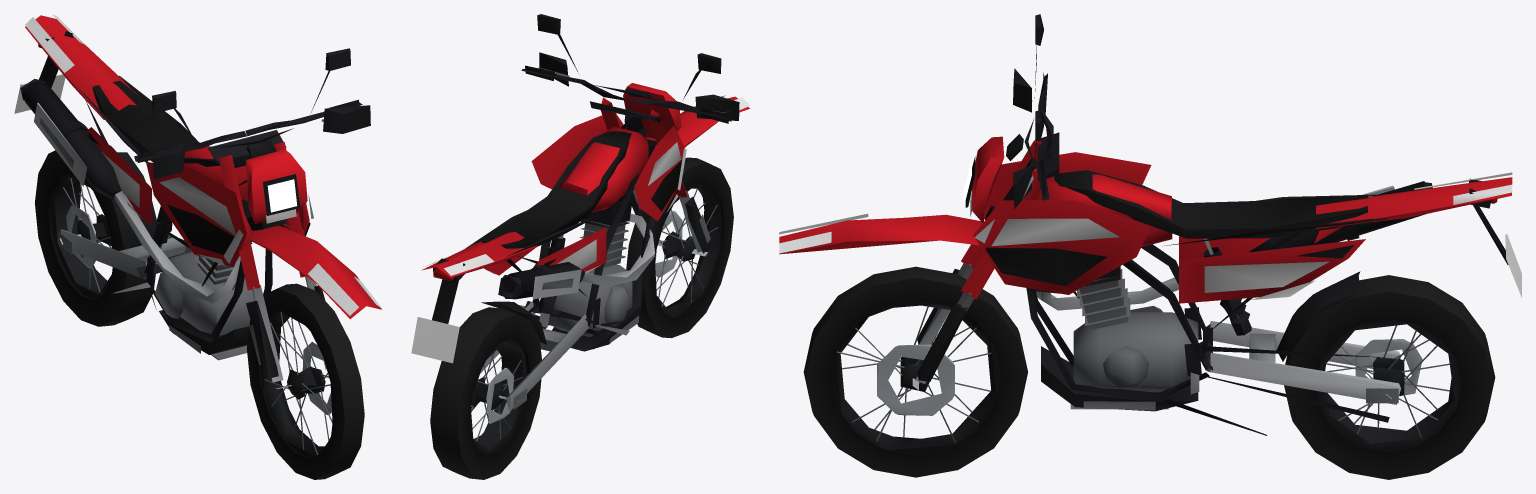
File: bike15_crf250.glb
The picture shows the model from 3 angles, left to right: view 1: azimuth 30°, elevation 25°; view 2: azimuth 150°, elevation 25°; view 3: azimuth 270°, elevation 25°; orthographic projection. The views are drawn at different scales.
Parts seen in each view (by area): view 1: body, wheel_front, wheel_rear; view 2: body, wheel_rear, wheel_front; view 3: body, wheel_front, wheel_rear.
Part boxes in pixels (left/top/right/bottom): body: left=14, top=14, right=381, bottom=388; wheel_front: left=247, top=283, right=364, bottom=479; wheel_rear: left=35, top=145, right=155, bottom=326; body: left=411, top=14, right=750, bottom=411; wheel_rear: left=430, top=307, right=541, bottom=479; wheel_front: left=626, top=157, right=733, bottom=338; body: left=779, top=14, right=1521, bottom=435; wheel_front: left=803, top=266, right=1027, bottom=477; wheel_rear: left=1284, top=275, right=1495, bottom=479.
Bounding box in the file's own units: 0.902 × 1.37 × 2.27.
